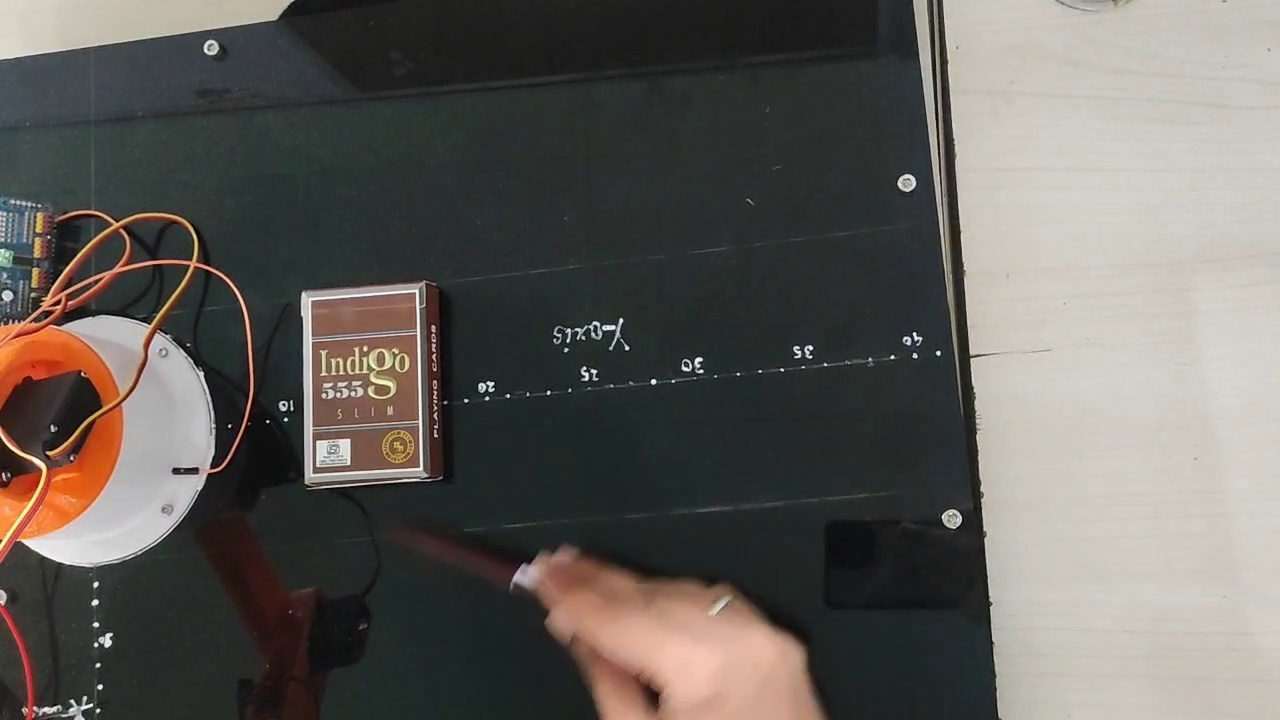BEX: (306, 290, 421, 477)
